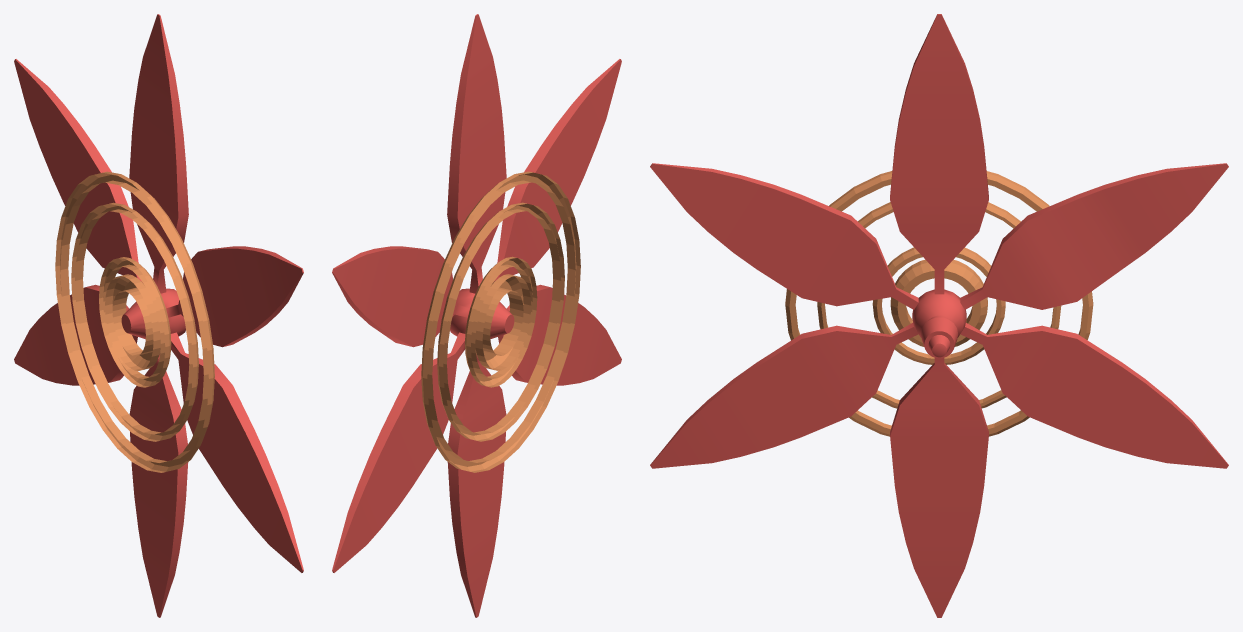
3 views of the same model, side by side, from view 1: azimuth 30°, elevation 25°; view 2: azimuth 150°, elevation 25°; view 3: azimuth 270°, elevation 25° (orthographic).
Parts seen in each view (by area): view 1: Base Aspas; view 2: Base Aspas; view 3: Base Aspas.
Part boxes in pixels (bbox=[...]): Base Aspas: bbox=[14, 14, 303, 617]; Base Aspas: bbox=[332, 14, 621, 617]; Base Aspas: bbox=[650, 14, 1228, 617].
Bounding box in the file's own units: 1.81 × 10.01 × 8.7.
